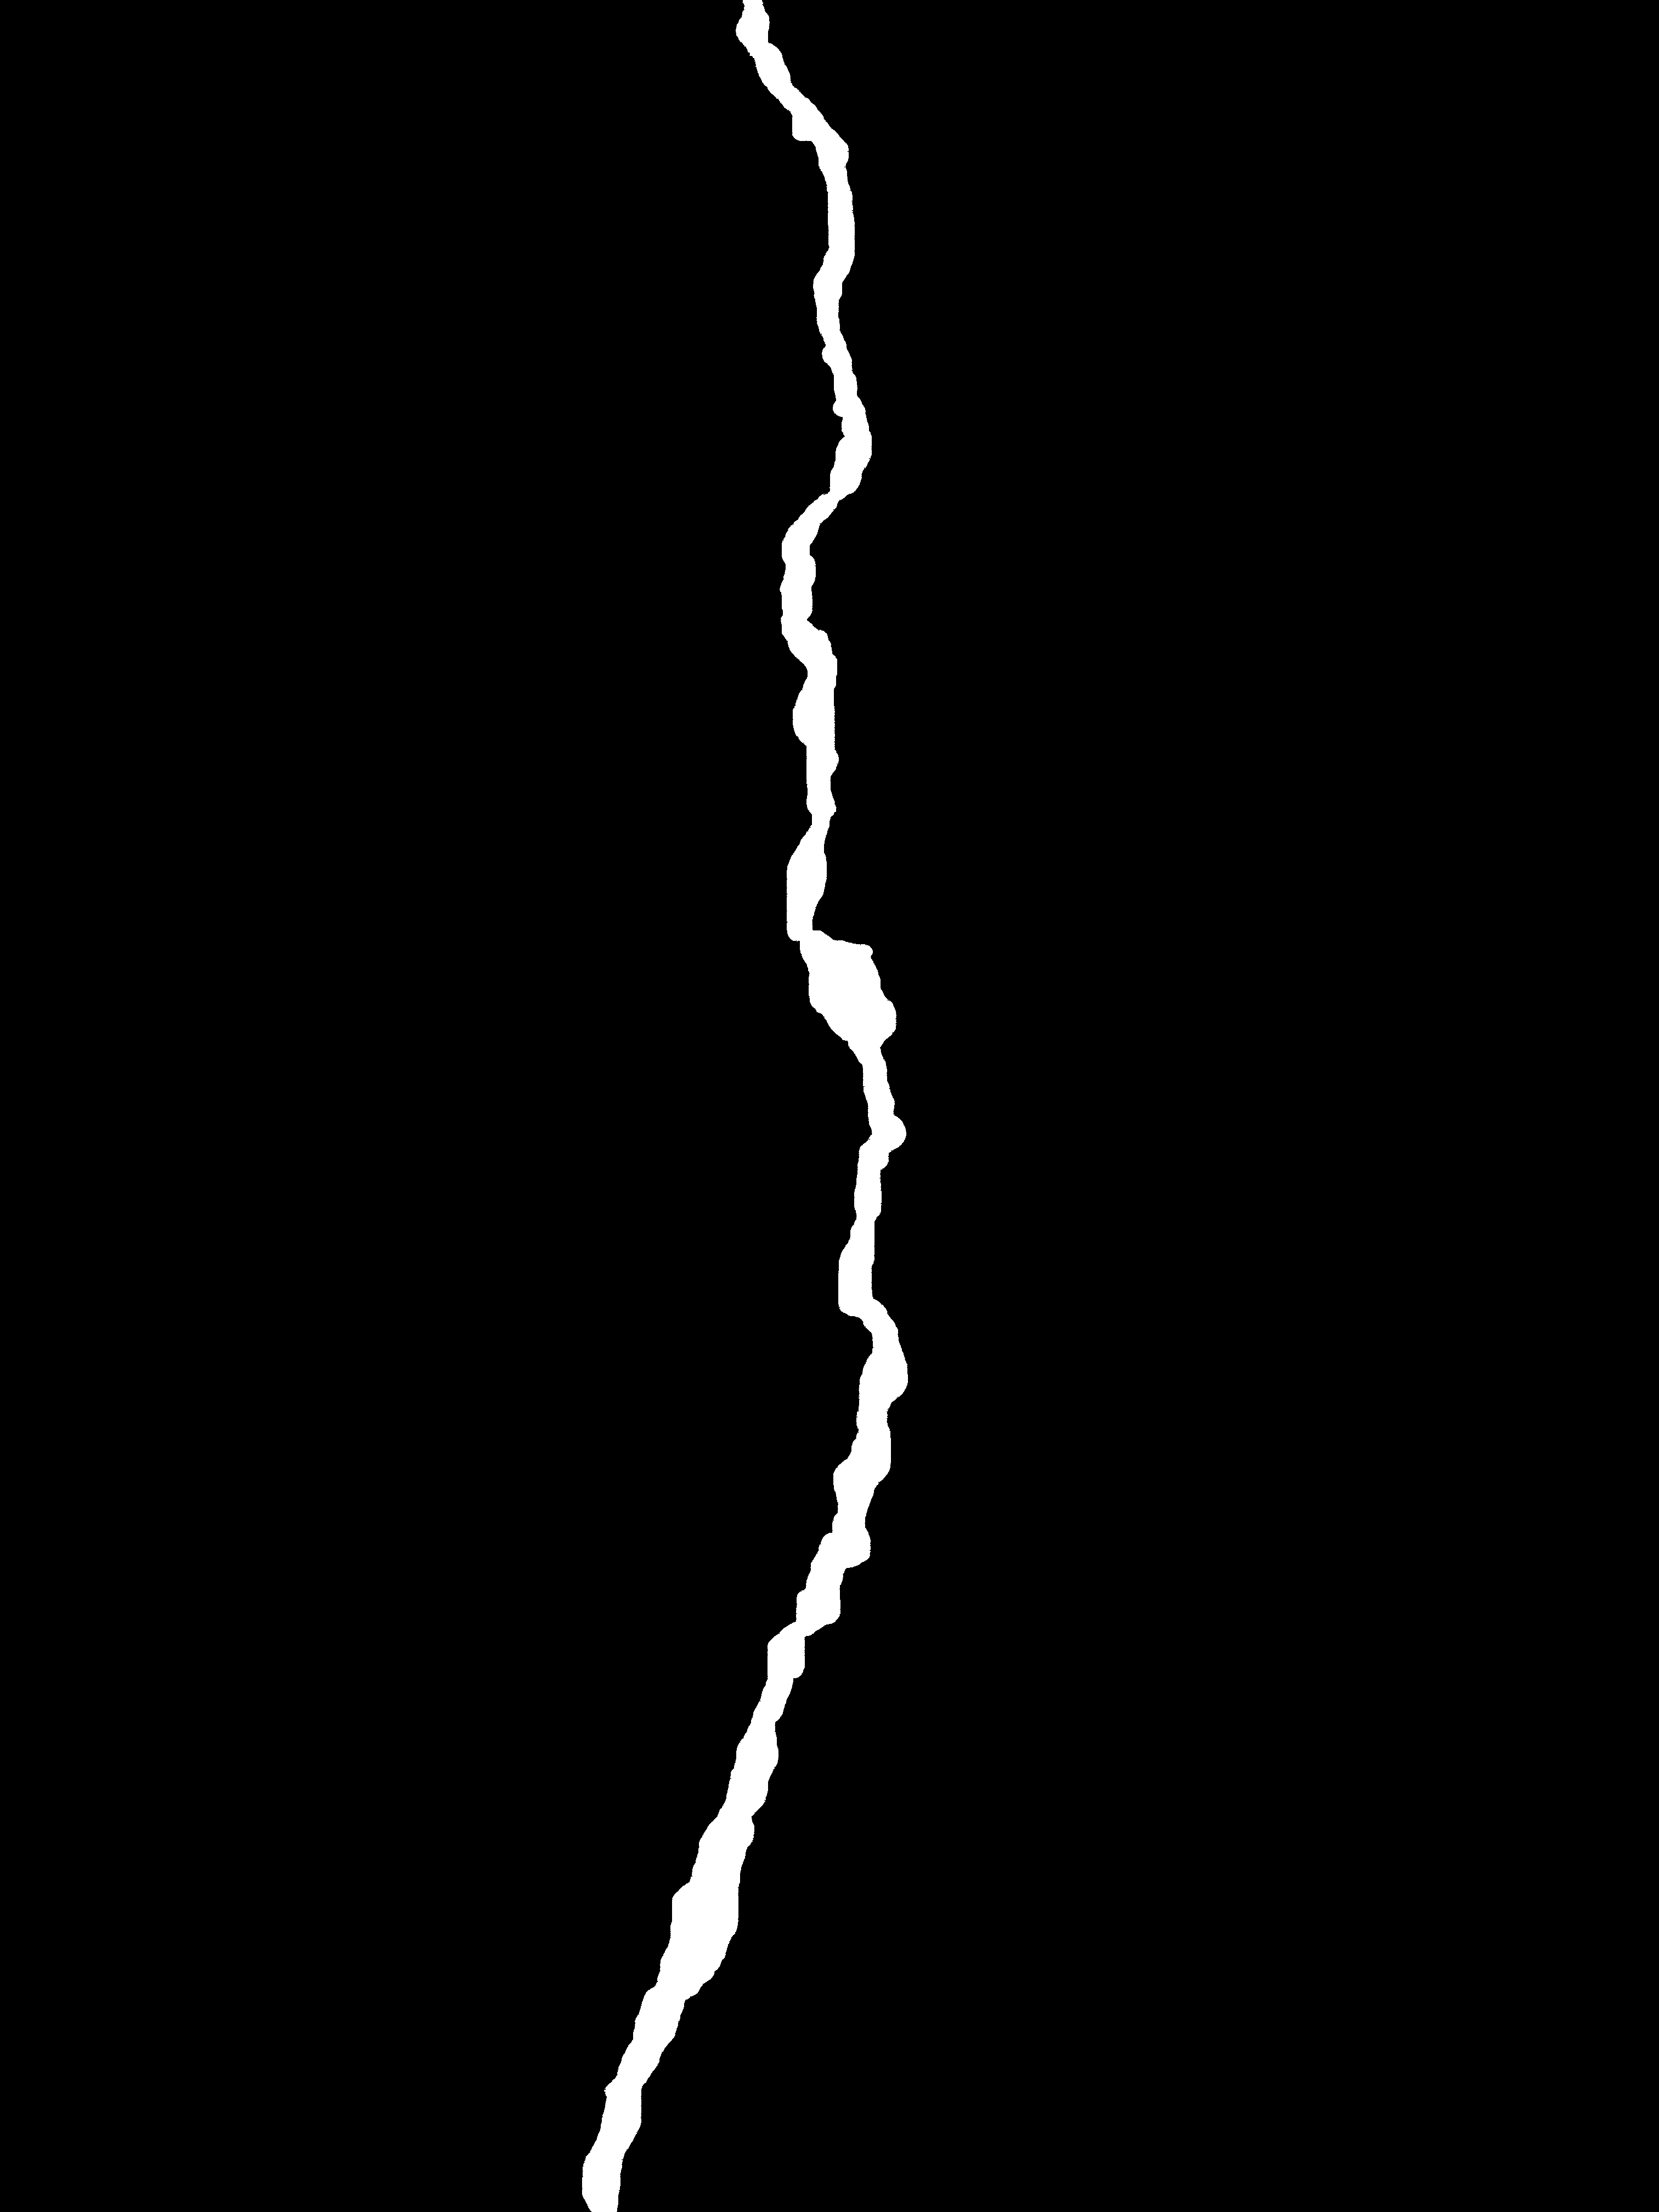Crack: (554, 0, 920, 2212)
